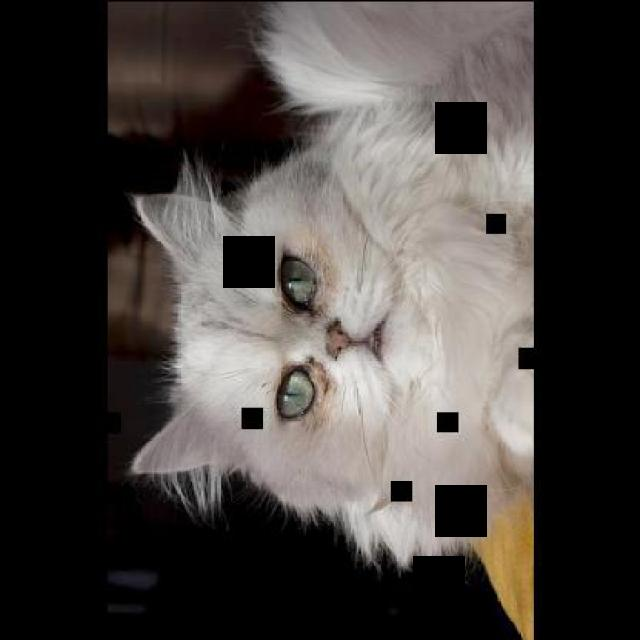unauthorized: (124, 0, 533, 575)
